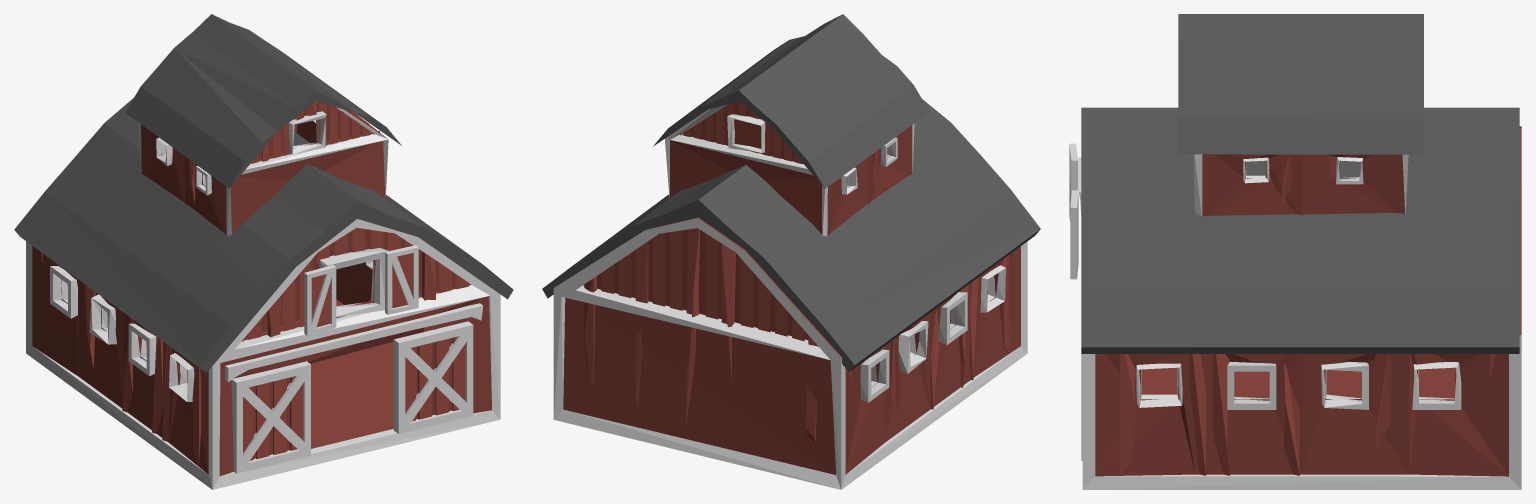
The model's file is BigBarn.lod1.glb.
3 renders of one model, left to right at view 1: azimuth 30°, elevation 25°; view 2: azimuth 150°, elevation 25°; view 3: azimuth 270°, elevation 25°, orthographic. The views are drawn at different scales.
Visible parts, largest first — view 1: BigBarn, BigBarn_Door, BigBarn_Door2, BigBarn_Window, BigBarn_Window2; view 2: BigBarn; view 3: BigBarn, BigBarn_Window, BigBarn_Window2.
Boxes of the visible parts, bbox=[...] form: BigBarn: bbox=[14, 14, 513, 489]; BigBarn_Door: bbox=[393, 321, 473, 433]; BigBarn_Door2: bbox=[231, 361, 310, 473]; BigBarn_Window: bbox=[385, 245, 418, 314]; BigBarn_Window2: bbox=[304, 265, 336, 335]; BigBarn: bbox=[542, 14, 1040, 489]; BigBarn: bbox=[1078, 14, 1521, 489]; BigBarn_Window: bbox=[1070, 190, 1078, 279]; BigBarn_Window2: bbox=[1069, 143, 1078, 221].
Bounding box in the file's own units: 7.73 × 7.89 × 8.22.
